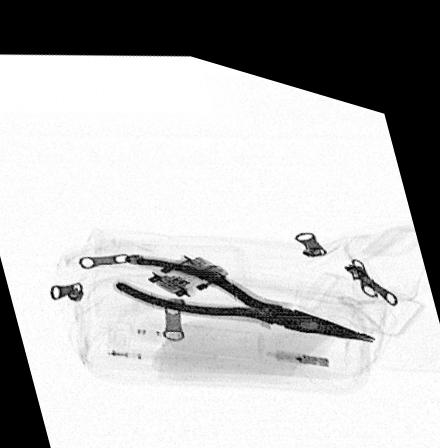Pliers: (113, 247, 377, 321)
